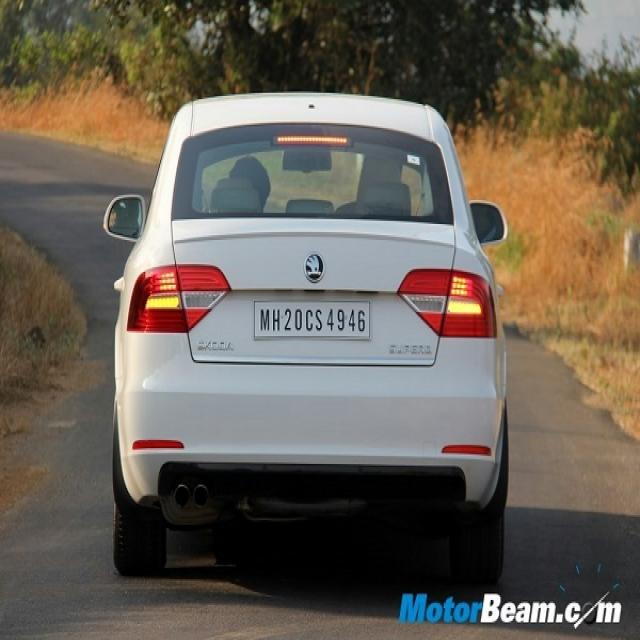license-plate: (253, 298, 371, 339)
